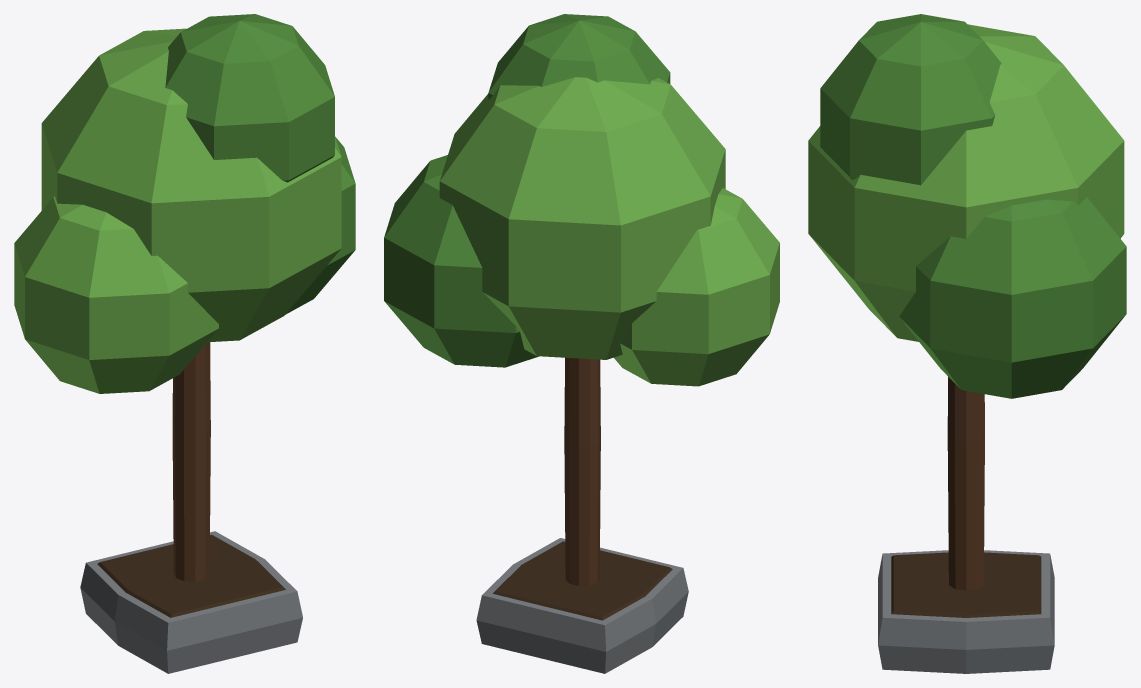
The model's file is s-tree.glb.
The picture shows the model from 3 angles, left to right: view 1: azimuth 30°, elevation 25°; view 2: azimuth 150°, elevation 25°; view 3: azimuth 270°, elevation 25°; orthographic projection. The views are drawn at different scales.
Visible parts, largest first — view 1: p; view 2: p; view 3: p.
Part boxes in pixels (left/top/right/bottom): p: left=14, top=14, right=355, bottom=673; p: left=384, top=14, right=779, bottom=673; p: left=808, top=14, right=1126, bottom=673.
Size of the model in its own units: 2.77 by 4.6 by 2.11.
